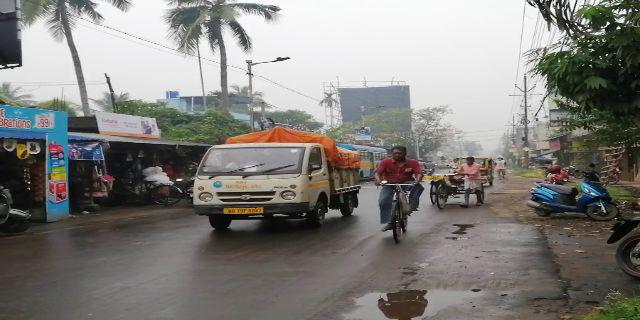Cycle: (370, 145, 421, 246)
Minitruck: (194, 145, 362, 236)
Motorbike: (527, 182, 617, 225)
